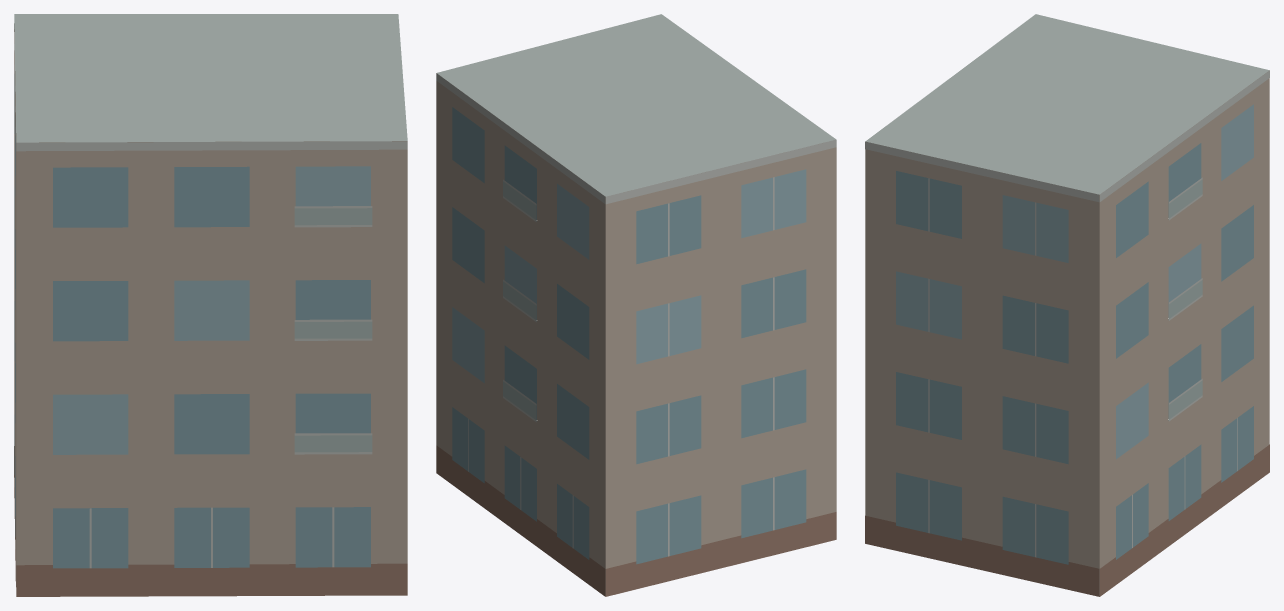
Rendered from survey-upis-32870945.glb.
3 renders of one model, left to right at view 1: azimuth 30°, elevation 25°; view 2: azimuth 150°, elevation 25°; view 3: azimuth 270°, elevation 25°, orthographic. The views are drawn at different scales.
Visible parts, largest first — view 1: survey-upis-32870945.tmp; view 2: survey-upis-32870945.tmp; view 3: survey-upis-32870945.tmp.
Boxes of the visible parts, left/top/right/bottom form: survey-upis-32870945.tmp: left=14, top=14, right=407, bottom=596; survey-upis-32870945.tmp: left=436, top=14, right=836, bottom=596; survey-upis-32870945.tmp: left=865, top=14, right=1269, bottom=596.
Bounding box in the file's own units: 12.34 × 12.8 × 11.68.
